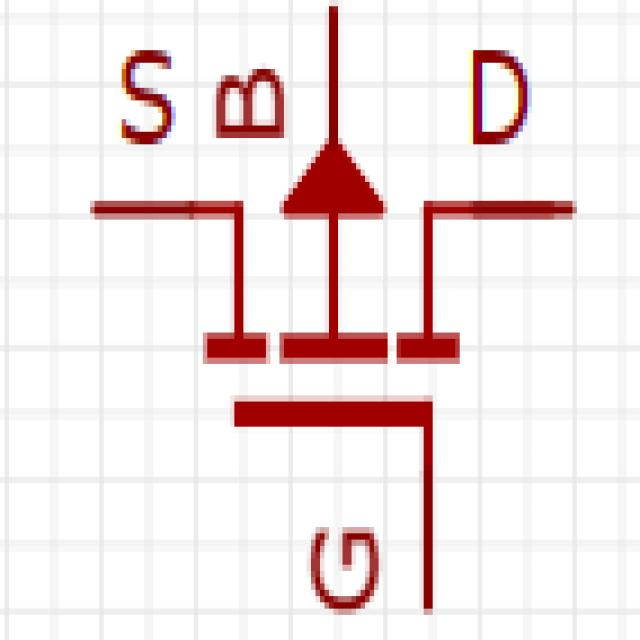pmos: (94, 8, 598, 610)
